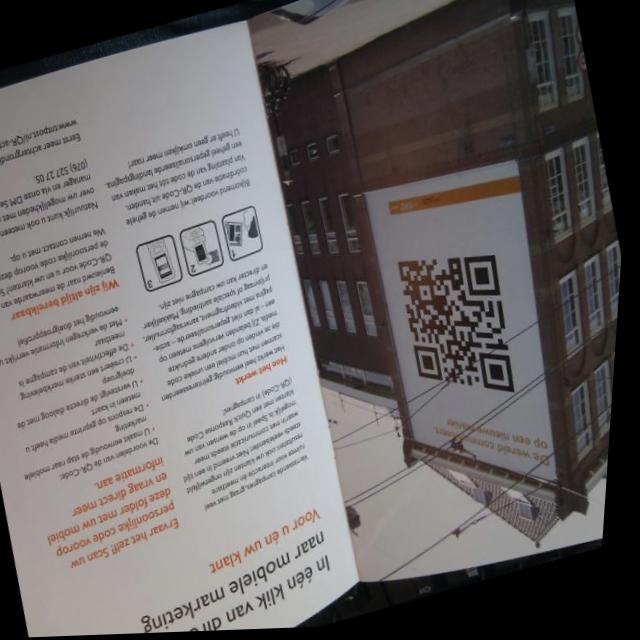qrcode: (393, 238, 534, 421)
